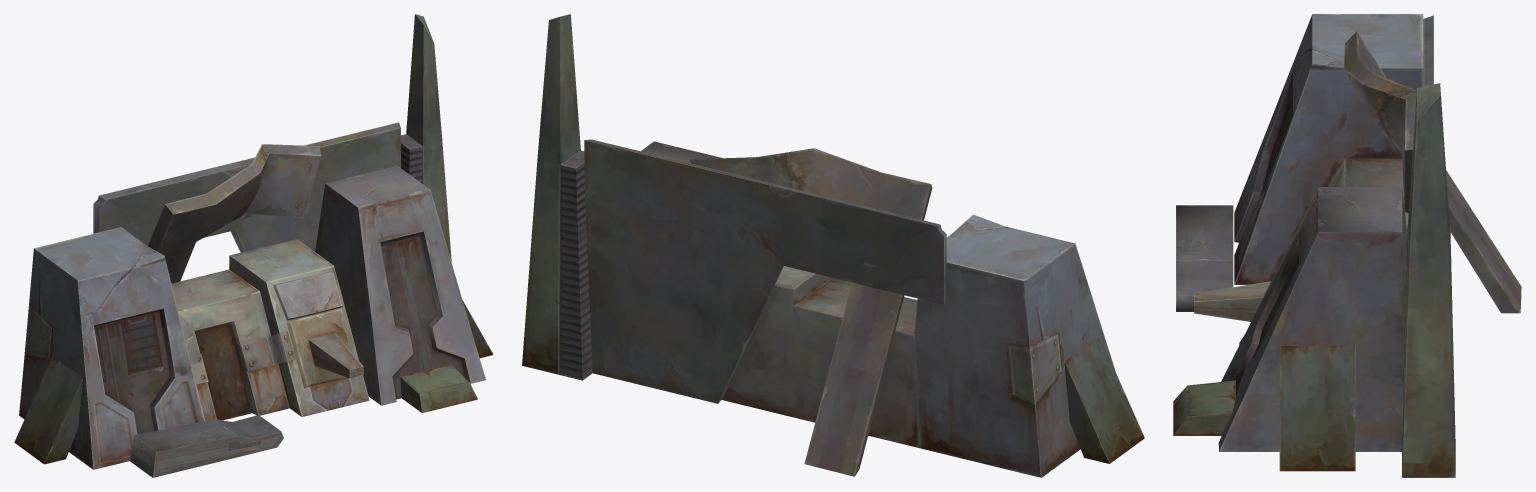
File: all_arch_slave_barricade_large.glb
3 renders of one model, left to right at view 1: azimuth 30°, elevation 25°; view 2: azimuth 150°, elevation 25°; view 3: azimuth 270°, elevation 25°, orthographic. The views are drawn at different scales.
Visible parts, largest first — view 1: all_arch_slave_barricade_large; view 2: all_arch_slave_barricade_large; view 3: all_arch_slave_barricade_large.
Part boxes in pixels (x1=…): all_arch_slave_barricade_large: x1=14, y1=14, x2=493, y2=477; all_arch_slave_barricade_large: x1=522, y1=14, x2=1144, y2=477; all_arch_slave_barricade_large: x1=1173, y1=14, x2=1521, y2=477.
Size of the model in its own units: 0.2779 by 0.1723 by 0.1435.
Materials: 1 (1 with a texture image).
